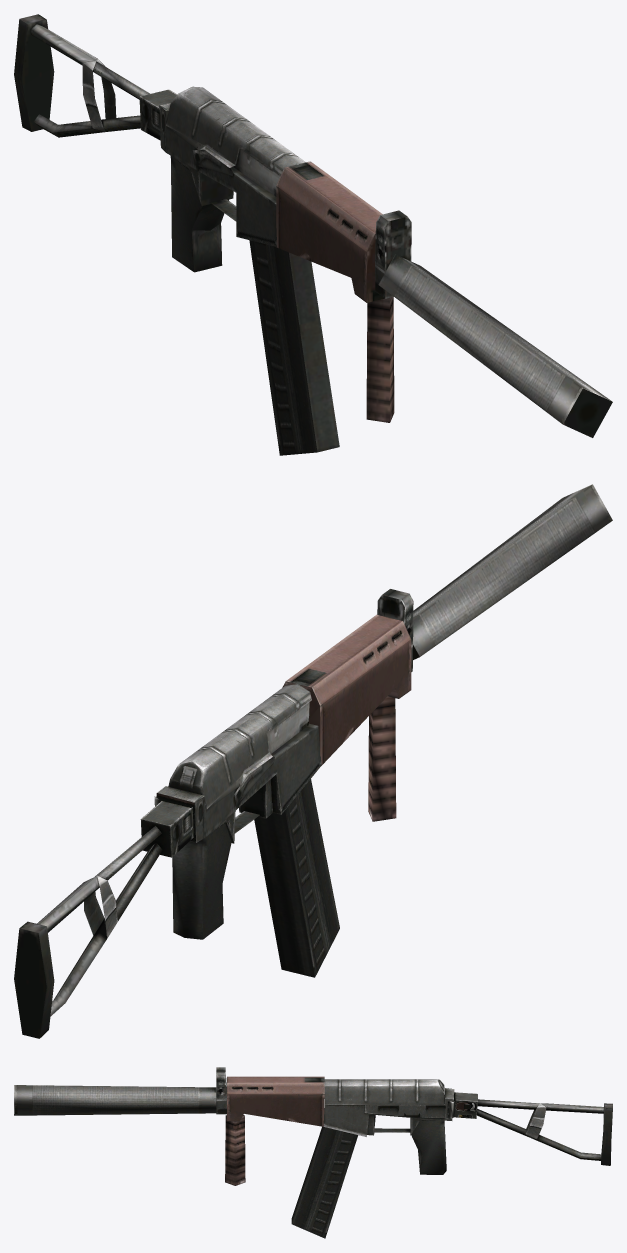
The model's file is Assault_Rifle_SMG_VAL_lod2_Body_LOD_(000521).glb.
3 views of the same model, one above another, from view 1: azimuth 30°, elevation 25°; view 2: azimuth 150°, elevation 25°; view 3: azimuth 270°, elevation 25° (orthographic). The views are drawn at different scales.
Parts seen in each view (by area): view 1: SMG_VAL_lod2; view 2: SMG_VAL_lod2; view 3: SMG_VAL_lod2.
Boxes of the visible parts, bbox=[...] form: SMG_VAL_lod2: bbox=[14, 14, 612, 455]; SMG_VAL_lod2: bbox=[14, 484, 612, 1038]; SMG_VAL_lod2: bbox=[14, 1067, 612, 1238].
Bounding box in the file's own units: 0.0624 × 0.3656 × 1.2.
Materials: 1 (1 with a texture image).
